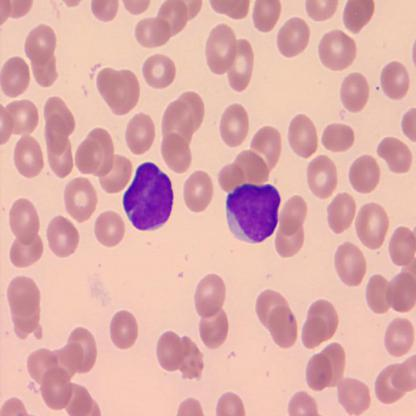Blast: (121, 159, 174, 234), (223, 181, 283, 246)
